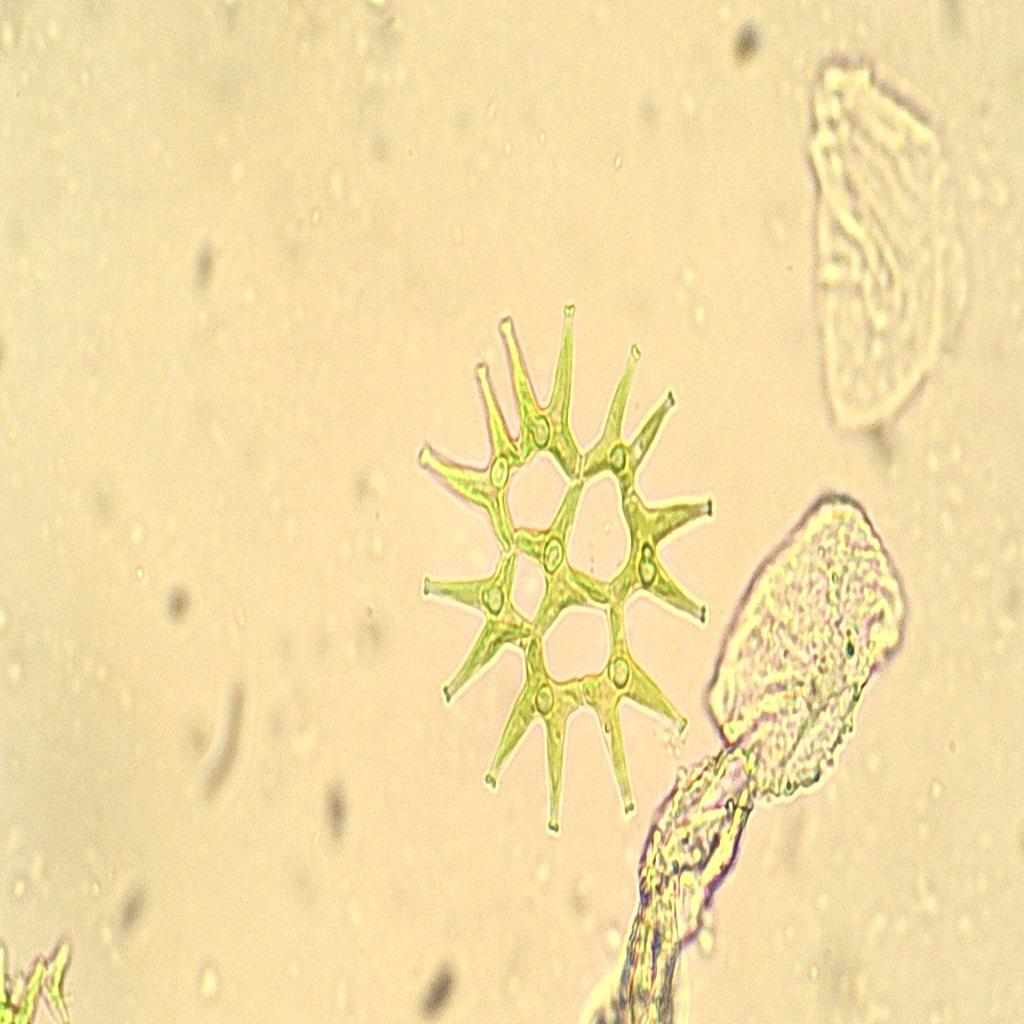Pediastrum_CTH: (406, 276, 718, 849)
